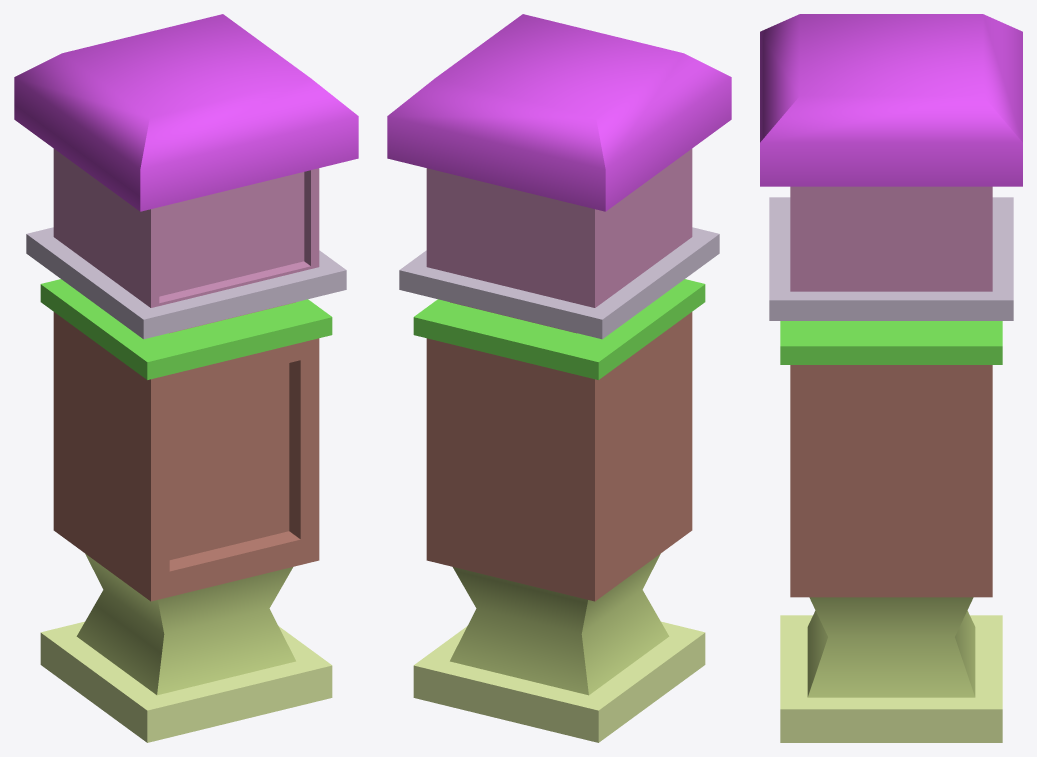
3 views of the same model, side by side, from view 1: azimuth 30°, elevation 25°; view 2: azimuth 150°, elevation 25°; view 3: azimuth 270°, elevation 25° (orthographic). The views are drawn at different scales.
Visible parts, largest first — view 1: pCube35_lambert1_0.016, pCube35_lambert1_0.006, pCube35_lambert1_0.054, pCube35_lambert1_0.068, pCube35_lambert1_0.036, pCube35_lambert1_0.030, pCube35_lambert1_0.042; view 2: pCube35_lambert1_0.016, pCube35_lambert1_0.006, pCube35_lambert1_0.054, pCube35_lambert1_0.068, pCube35_lambert1_0.036, pCube35_lambert1_0.030, pCube35_lambert1_0.042; view 3: pCube35_lambert1_0.016, pCube35_lambert1_0.006, pCube35_lambert1_0.054, pCube35_lambert1_0.068, pCube35_lambert1_0.036, pCube35_lambert1_0.042, pCube35_lambert1_0.030.
Boxes of the visible parts, left/top/right/bottom form: pCube35_lambert1_0.016: left=53, top=312, right=319, bottom=601; pCube35_lambert1_0.006: left=14, top=14, right=358, bottom=211; pCube35_lambert1_0.054: left=53, top=149, right=319, bottom=307; pCube35_lambert1_0.068: left=76, top=553, right=295, bottom=695; pCube35_lambert1_0.036: left=40, top=621, right=332, bottom=742; pCube35_lambert1_0.030: left=40, top=279, right=332, bottom=379; pCube35_lambert1_0.042: left=26, top=227, right=346, bottom=339; pCube35_lambert1_0.016: left=426, top=312, right=692, bottom=601; pCube35_lambert1_0.006: left=387, top=14, right=731, bottom=211; pCube35_lambert1_0.054: left=426, top=149, right=692, bottom=307; pCube35_lambert1_0.068: left=450, top=553, right=669, bottom=695; pCube35_lambert1_0.036: left=413, top=621, right=705, bottom=742; pCube35_lambert1_0.030: left=413, top=279, right=705, bottom=379; pCube35_lambert1_0.042: left=399, top=227, right=719, bottom=339; pCube35_lambert1_0.016: left=790, top=365, right=992, bottom=597; pCube35_lambert1_0.006: left=760, top=14, right=1022, bottom=186; pCube35_lambert1_0.054: left=790, top=186, right=992, bottom=291; pCube35_lambert1_0.068: left=807, top=597, right=975, bottom=697; pCube35_lambert1_0.036: left=780, top=615, right=1002, bottom=742; pCube35_lambert1_0.042: left=769, top=197, right=1013, bottom=320; pCube35_lambert1_0.030: left=780, top=321, right=1002, bottom=364.
Bounding box in the file's own units: 0.3715 × 1 × 0.3715.
